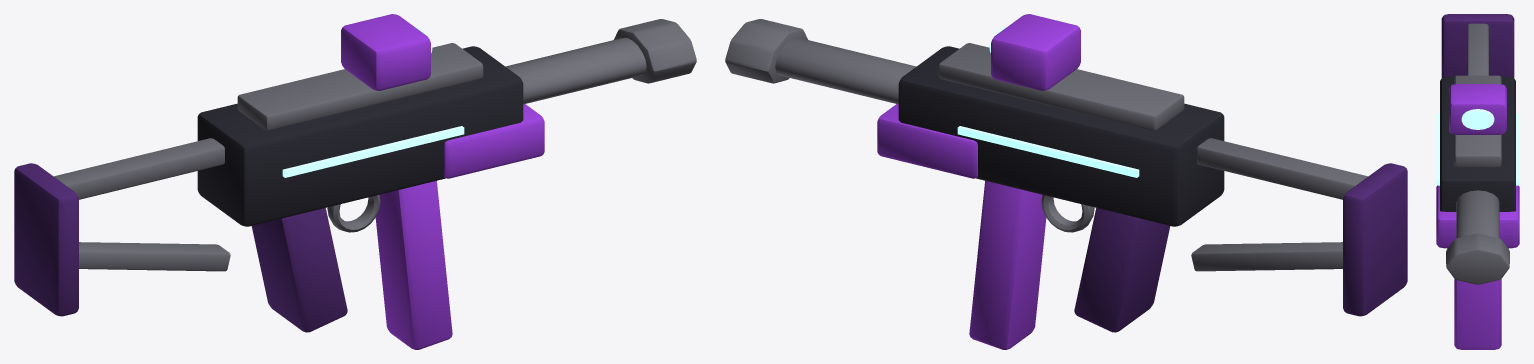
The model's file is SGP_SMG_Neon.fbx.
The picture shows the model from 3 angles, left to right: view 1: azimuth 30°, elevation 25°; view 2: azimuth 150°, elevation 25°; view 3: azimuth 270°, elevation 25°; orthographic projection. The views are drawn at different scales.
Visible parts, largest first — view 1: SGP_SMG_Neon; view 2: SGP_SMG_Neon; view 3: SGP_SMG_Neon.
Boxes of the visible parts, <box> form: SGP_SMG_Neon: <box>14,14,696,349</box>; SGP_SMG_Neon: <box>725,14,1407,349</box>; SGP_SMG_Neon: <box>1436,14,1519,349</box>.
Size of the model in its own units: 0.5015 by 0.2349 by 0.0736.
